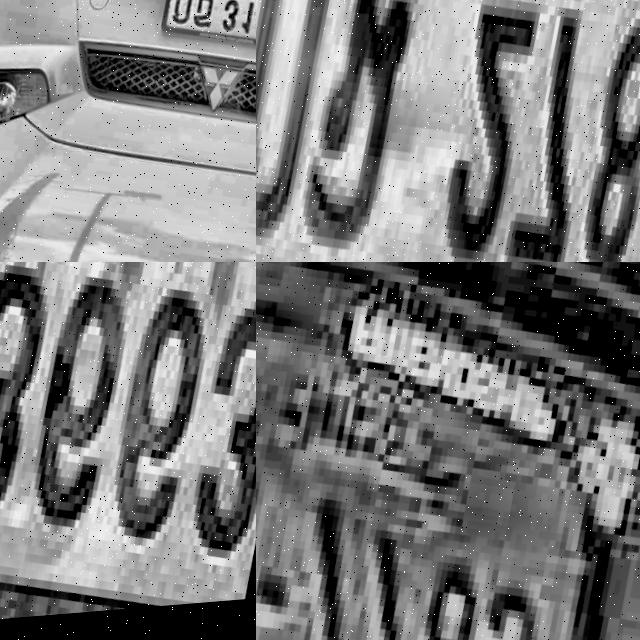license-plate: (256, 262, 640, 640), (256, 0, 640, 262), (0, 262, 256, 640), (149, 0, 256, 76)
